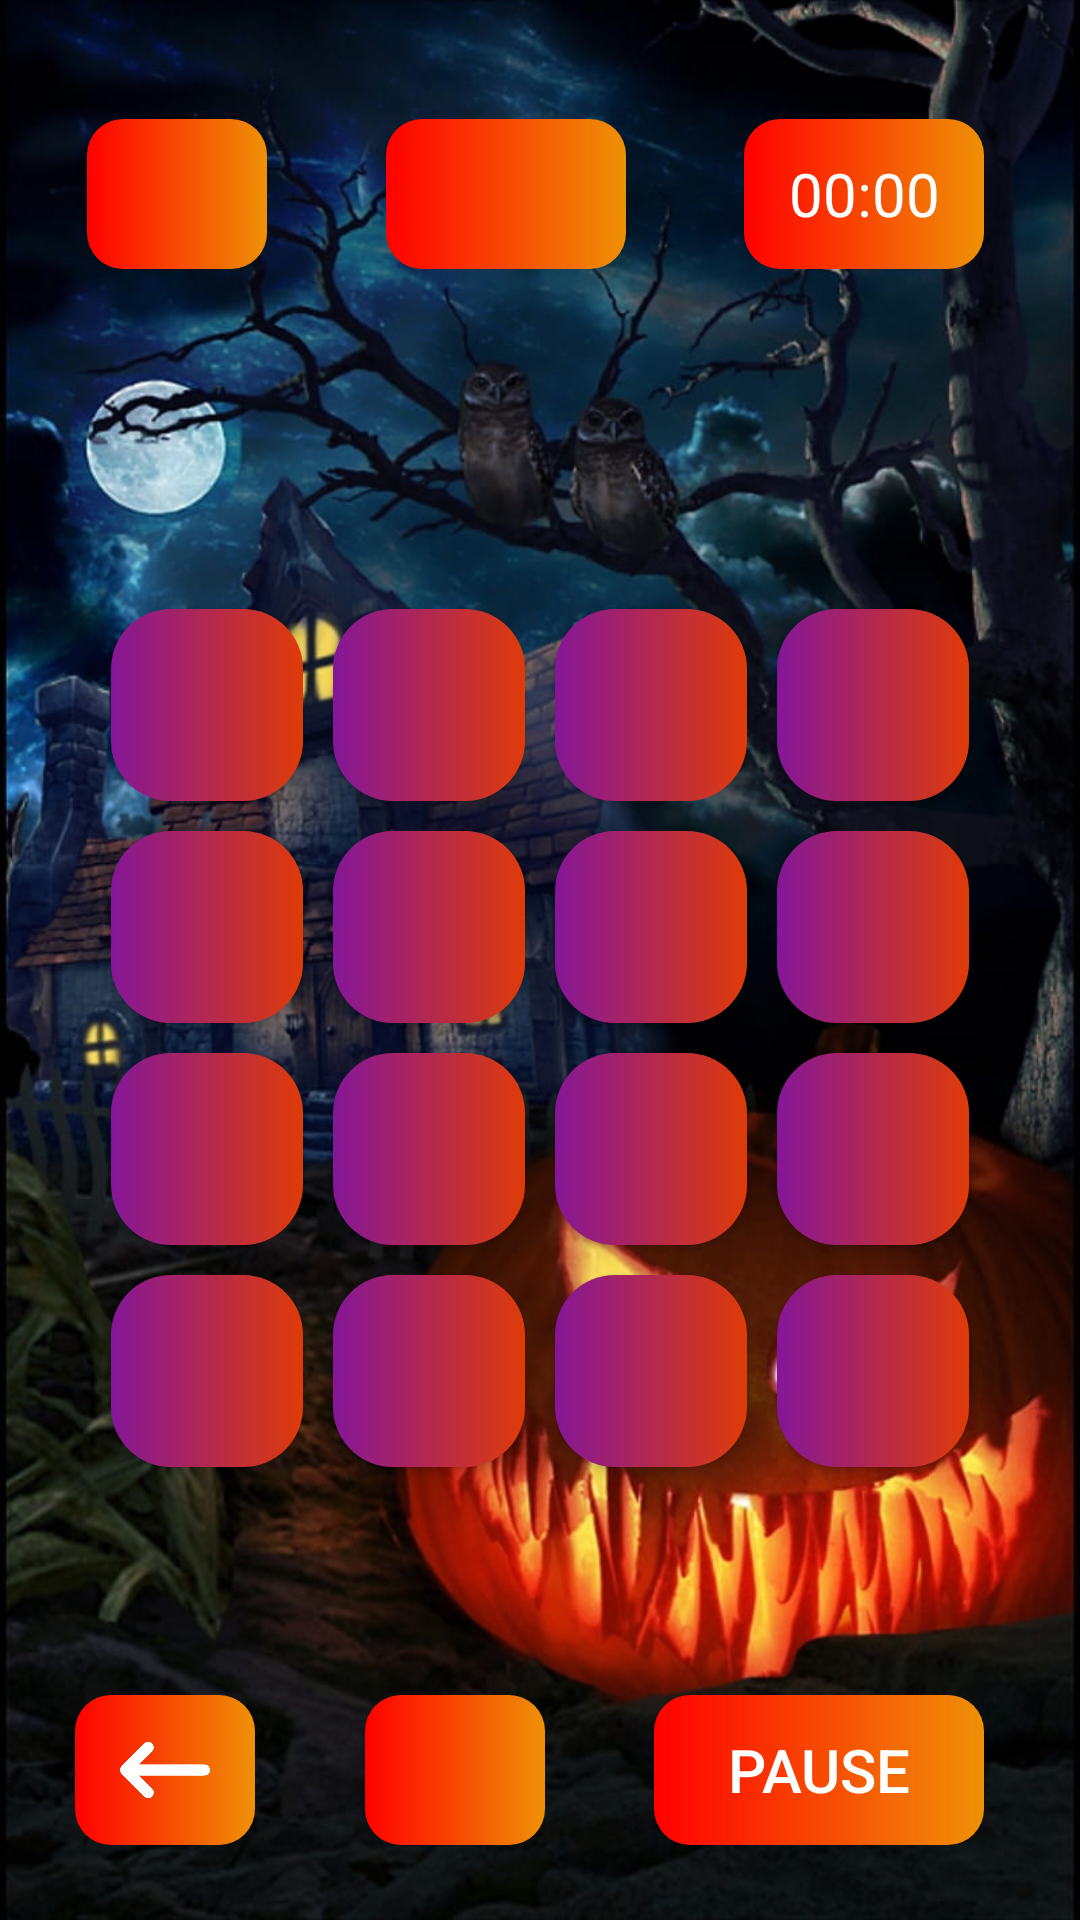

Screen size 1080 × 1920. Icon name, then its box in pixels as (x1,y1,x2,y2):
back: (75,1695,255,1845)
